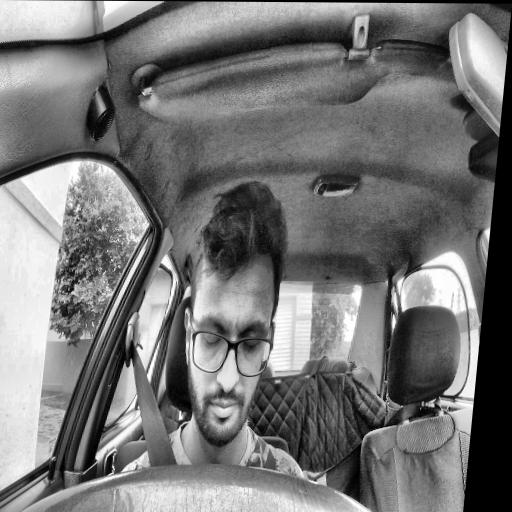drowsy: (171, 183, 291, 449)
